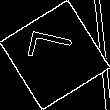L_E: (27, 34, 83, 76)
